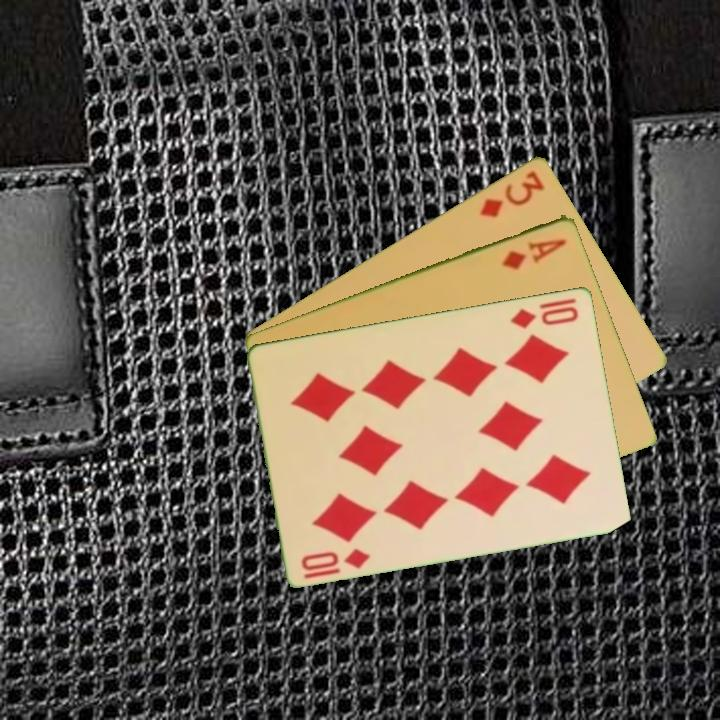10d: (507, 302, 582, 332), (298, 544, 374, 573)
3d: (476, 166, 548, 220)
Ad: (499, 234, 570, 272)
